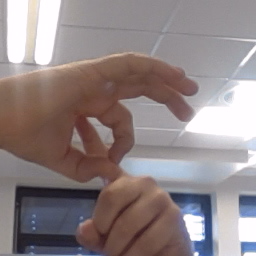OE: (1, 51, 201, 256)
